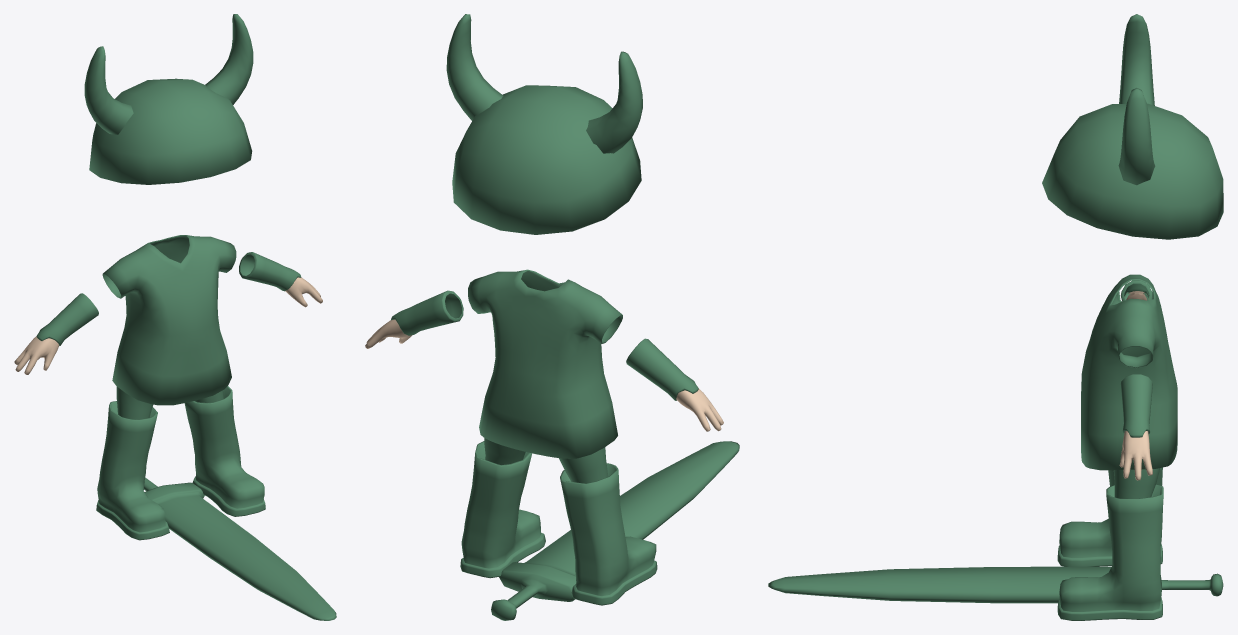
3 renders of one model, left to right at view 1: azimuth 30°, elevation 25°; view 2: azimuth 150°, elevation 25°; view 3: azimuth 270°, elevation 25°, orthographic. The views are drawn at different scales.
Parts seen in each view (by area): view 1: SM_Armour_002, SM_Helmet_002, SM_Boots_002, SM_Sword_002, SM_Gloves_002, SM_Pants_002; view 2: SM_Helmet_002, SM_Armour_002, SM_Boots_002, SM_Sword_002, SM_Gloves_002, SM_Pants_002; view 3: SM_Helmet_002, SM_Armour_002, SM_Boots_002, SM_Sword_002, SM_Gloves_002, SM_Pants_002.
Boxes of the visible parts, x1,y1,x2,y2 form: SM_Armour_002: [102, 235, 236, 405]; SM_Helmet_002: [84, 14, 253, 184]; SM_Boots_002: [96, 386, 265, 540]; SM_Sword_002: [144, 478, 336, 620]; SM_Gloves_002: [14, 252, 322, 374]; SM_Pants_002: [116, 386, 223, 419]; SM_Helmet_002: [446, 14, 642, 234]; SM_Armour_002: [468, 269, 622, 458]; SM_Boots_002: [460, 441, 657, 605]; SM_Sword_002: [491, 441, 739, 620]; SM_Gloves_002: [365, 290, 723, 431]; SM_Pants_002: [484, 438, 608, 483]; SM_Helmet_002: [1042, 14, 1223, 239]; SM_Armour_002: [1081, 274, 1177, 470]; SM_Boots_002: [1057, 467, 1163, 620]; SM_Sword_002: [768, 566, 1223, 603]; SM_Gloves_002: [1119, 280, 1152, 480]; SM_Pants_002: [1113, 468, 1160, 498].
Bounding box in the file's own units: 1.16 × 1.75 × 1.33.
